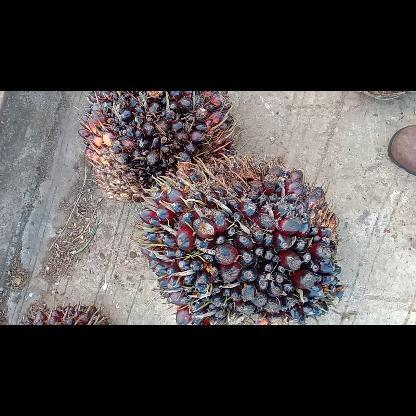TBS mentah: (140, 156, 342, 324), (78, 91, 235, 203)
